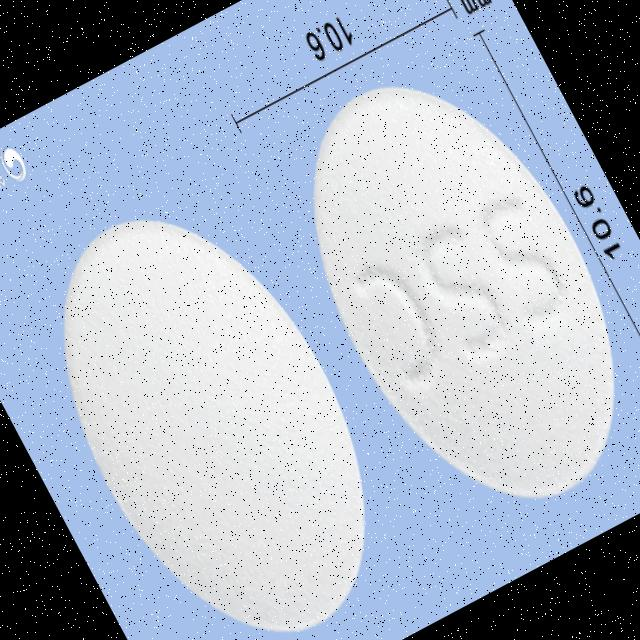Ciprofloxacin Tab- Samsung: (243, 33, 640, 555), (0, 160, 430, 640)
